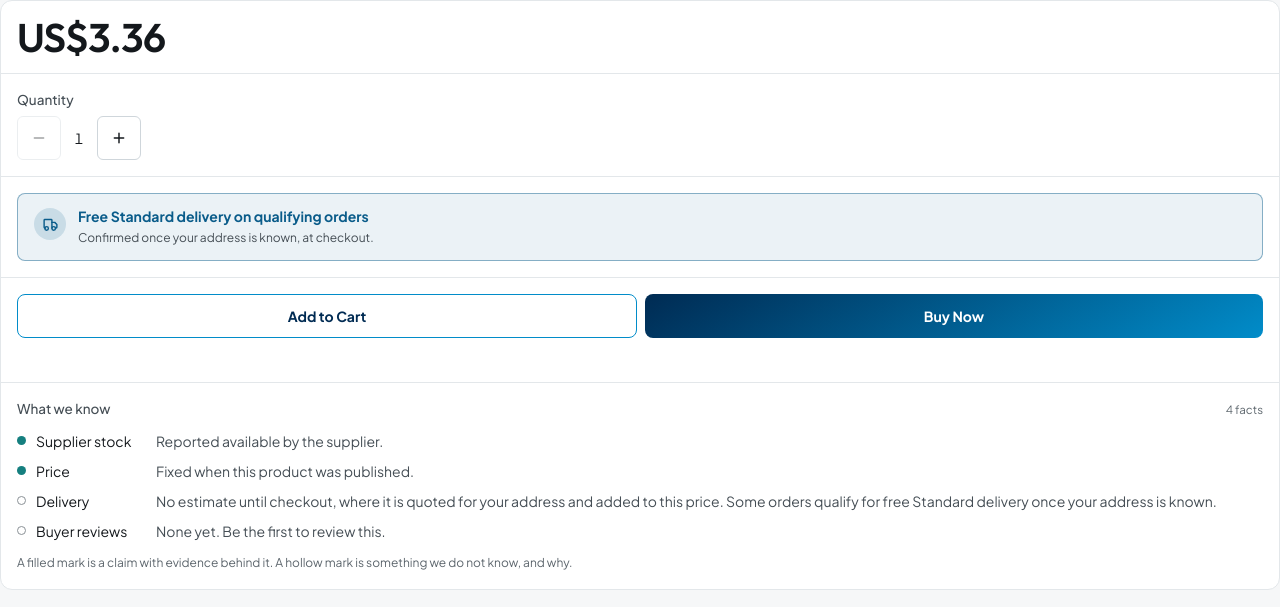
Scenario: the Add to Cart confirmation › animates the confirmation through a stylesheet class
Click the button "Add to Cart" at (327, 316), box 17,294 -> 637,338
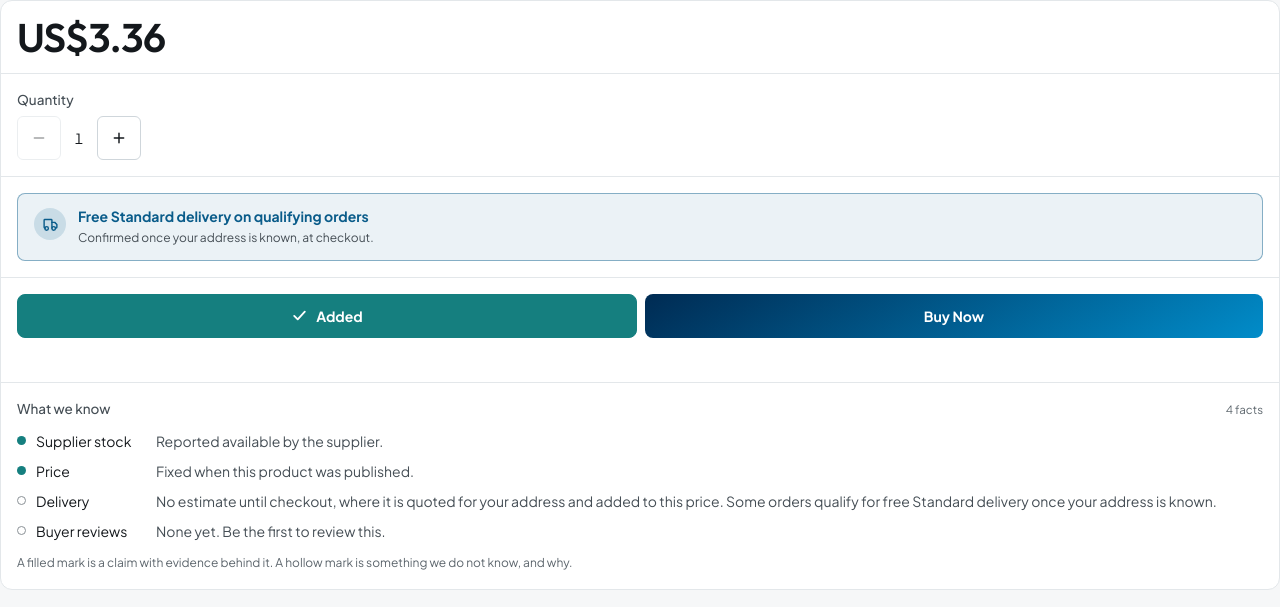
Expected: the element with class "animate-s3-confirm-in" is shown, 291,306 -> 363,326
